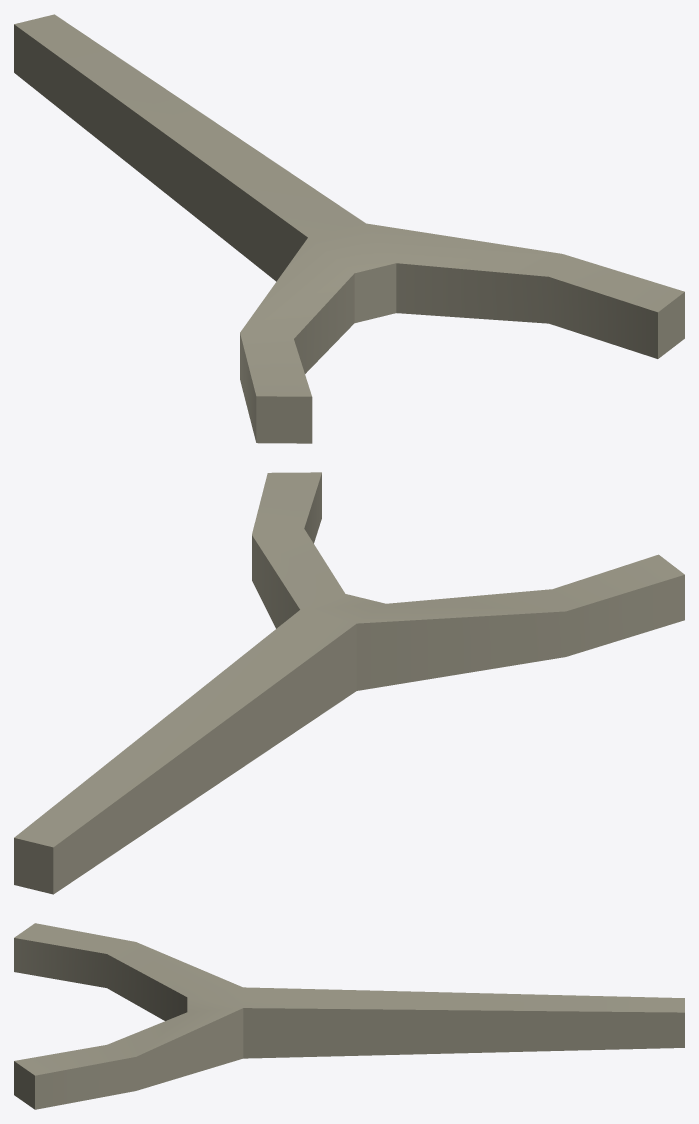
The model's file is slingshot.fbx.
3 views of the same model, one above another, from view 1: azimuth 30°, elevation 25°; view 2: azimuth 150°, elevation 25°; view 3: azimuth 270°, elevation 25° (orthographic). The views are drawn at different scales.
Visible parts, largest first — view 1: slingshot1; view 2: slingshot1; view 3: slingshot1.
Part boxes in pixels (left/top/right/bottom): slingshot1: left=14, top=14, right=684, bottom=443; slingshot1: left=14, top=472, right=684, bottom=894; slingshot1: left=14, top=923, right=684, bottom=1109.
Bounding box in the file's own units: 6.82 × 1.05 × 12.67.
